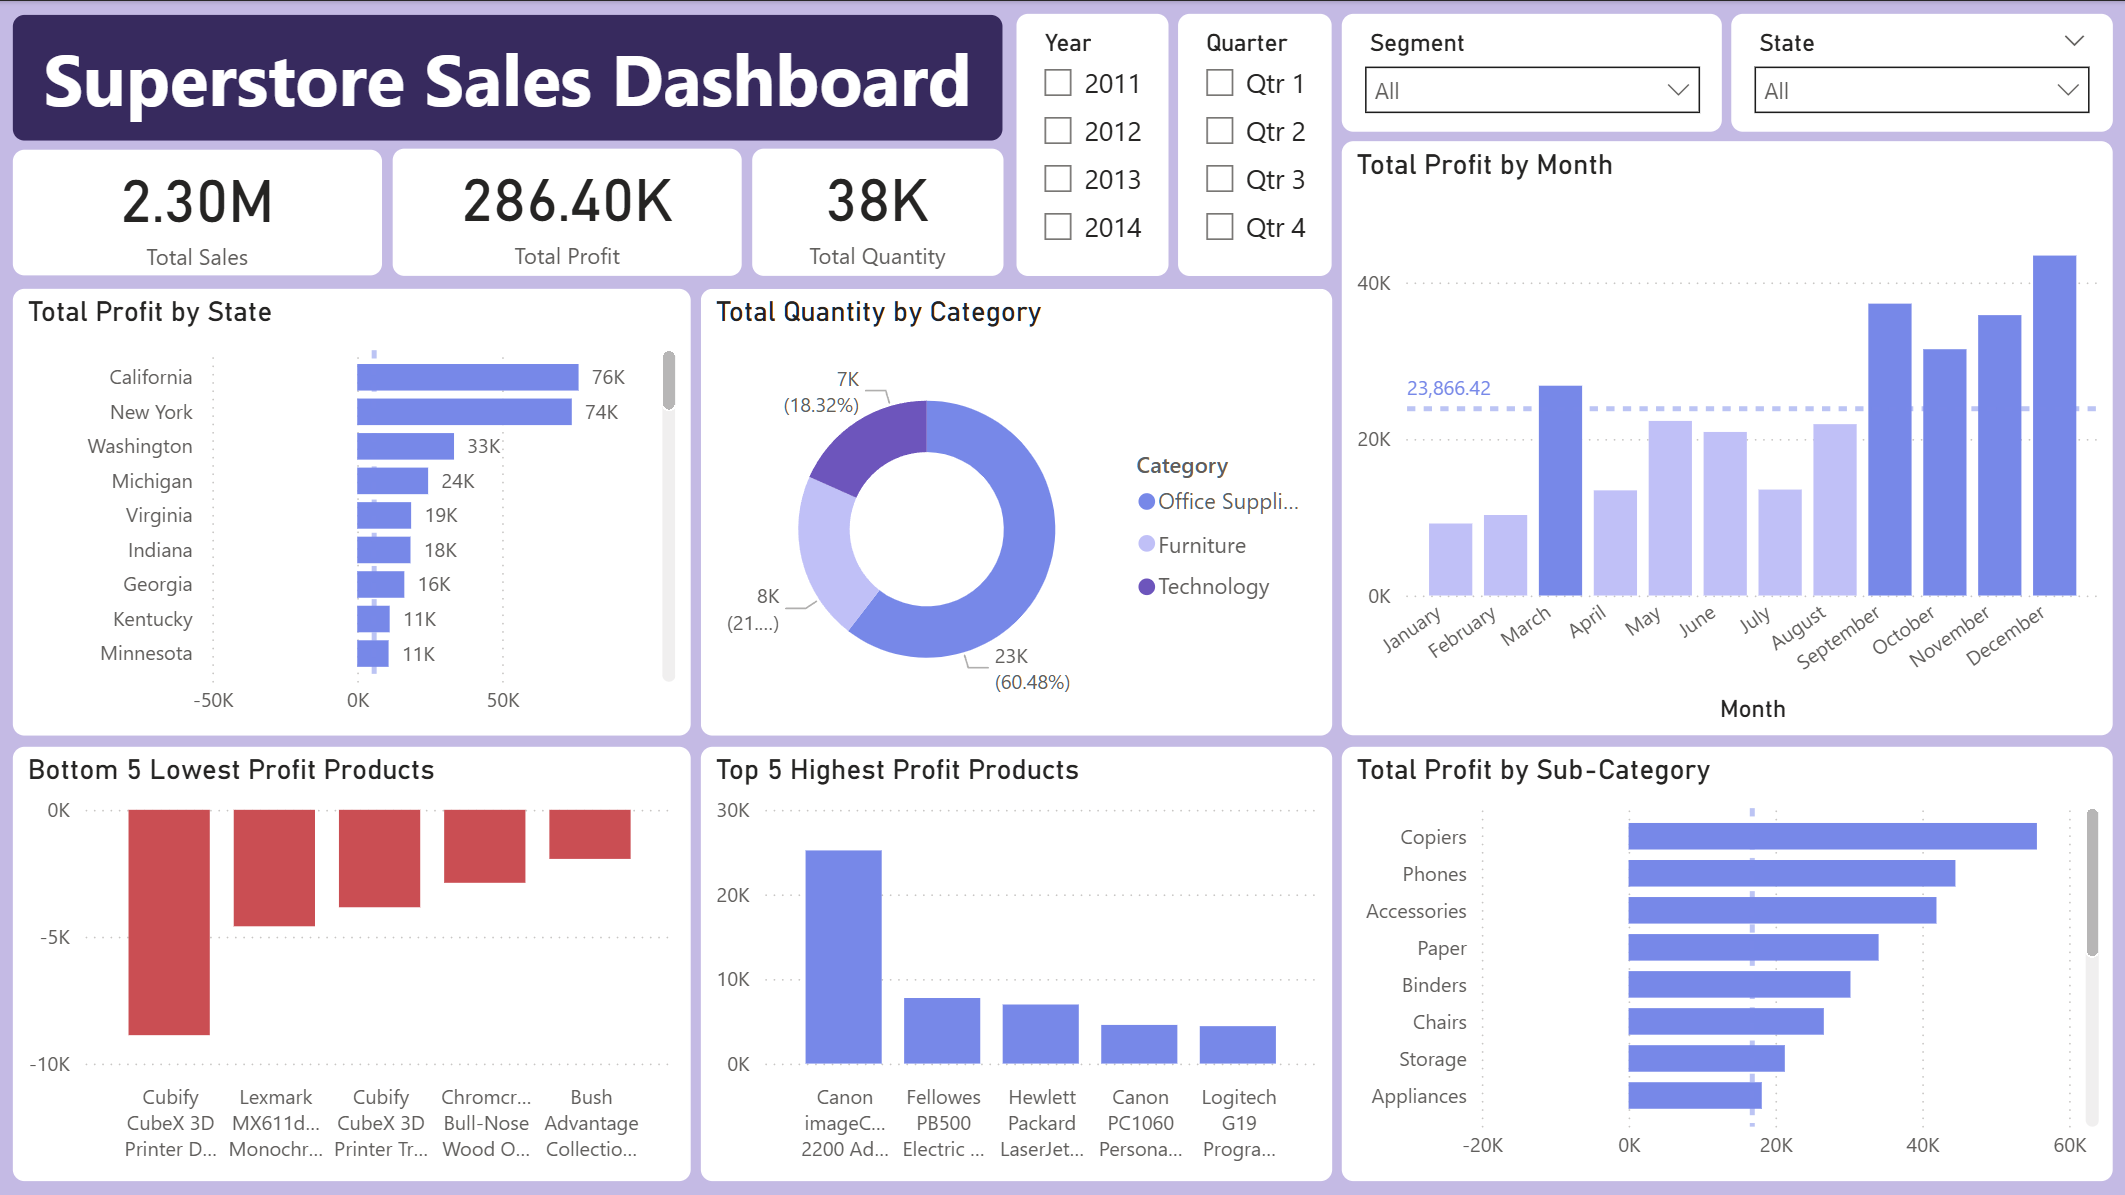

This screenshot's page, from the dashboard's own definition file:
{"tool":"powerbi","page":{"name":"Superstore Sales Dashboard","canvas":[1280,720],"ordinal":0},"visuals":[{"type":"card","fields":{"Values":["Sum(FactSales.Sales)"]},"box":[7.8,89.6,222.3,75.8],"z":0},{"type":"card","fields":{"Values":["Sum(FactSales.Profit)"]},"box":[236.7,88.9,210.5,76.5],"z":1000},{"type":"card","fields":{"Values":["Sum(FactSales.Quantity)"]},"box":[453.1,88.9,151,76.5],"z":2000},{"type":"slicer","fields":{"Values":["FactSales.Order Date.Variation.Date Hierarchy.Year"]},"box":[612.6,7.8,91.5,157.6],"z":3000},{"type":"slicer","fields":{"Values":["FactSales.Order Date.Variation.Date Hierarchy.Quarter"]},"box":[710,7.8,92.8,157.6],"z":4000},{"type":"clusteredBarChart","title":"Total Profit by State","fields":{"Y":["Sum(FactSales.Profit)"],"Category":["DimLocation.State"]},"box":[7.8,173.3,408,269.4],"z":5000},{"type":"donutChart","title":"Total Quantity by Category","fields":{"Y":["Sum(FactSales.Quantity)"],"Category":["DimProduct.Category"]},"box":[422.4,173.3,380.5,269.4],"z":6000},{"type":"clusteredColumnChart","title":"Total Profit by Month","fields":{"Category":["FactSales.Order Date.Variation.Date Hierarchy.Month"],"Y":["Sum(FactSales.Profit)"]},"box":[808.1,84.3,464.9,358.3],"z":7000},{"type":"slicer","fields":{"Values":["FactSales.Segment"]},"box":[808.1,7.8,229.4,70.6],"z":8000},{"type":"textbox","box":[7.8,8.5,596.3,75.8],"z":9000},{"type":"clusteredBarChart","title":"Total Profit by Sub-Category","fields":{"Y":["Sum(FactSales.Profit)"],"Category":["DimProduct.Sub-Category"]},"box":[808.1,449.2,464.9,261.5],"z":10000},{"type":"slicer","fields":{"Values":["DimLocation.State"]},"box":[1043.3,7.8,229.7,70.6],"z":11000},{"type":"clusteredColumnChart","title":"Top 5 Highest Profit Products","fields":{"Y":["Sum(FactSales.Profit)"],"Category":["DimProduct.Product Name"]},"box":[422.4,449.2,380.5,261.5],"z":12000},{"type":"clusteredColumnChart","title":"Bottom 5 Lowest Profit Products","fields":{"Y":["Sum(FactSales.Profit)"],"Category":["DimProduct.Product Name"]},"box":[7.8,449.2,408,261.5],"z":13000}]}

Visuals, with their boxes in screenshot pixels (x1, y1, x2, y2), scaled from the page's 1280x720 canvas onto the 2125x1195 screenshot:
card - Sum(FactSales.Sales): select_region(13, 149, 382, 275)
card - Sum(FactSales.Profit): select_region(393, 148, 742, 275)
card - Sum(FactSales.Quantity): select_region(752, 148, 1003, 275)
slicer - FactSales.Order Date.Variation.Date Hierarchy.Year: select_region(1017, 13, 1169, 275)
slicer - FactSales.Order Date.Variation.Date Hierarchy.Quarter: select_region(1179, 13, 1333, 275)
"Total Profit by State" clusteredBarChart: select_region(13, 288, 690, 735)
"Total Quantity by Category" donutChart: select_region(701, 288, 1333, 735)
"Total Profit by Month" clusteredColumnChart: select_region(1342, 140, 2113, 735)
slicer - FactSales.Segment: select_region(1342, 13, 1722, 130)
textbox: select_region(13, 14, 1003, 140)
"Total Profit by Sub-Category" clusteredBarChart: select_region(1342, 746, 2113, 1180)
slicer - DimLocation.State: select_region(1732, 13, 2113, 130)
"Top 5 Highest Profit Products" clusteredColumnChart: select_region(701, 746, 1333, 1180)
"Bottom 5 Lowest Profit Products" clusteredColumnChart: select_region(13, 746, 690, 1180)
